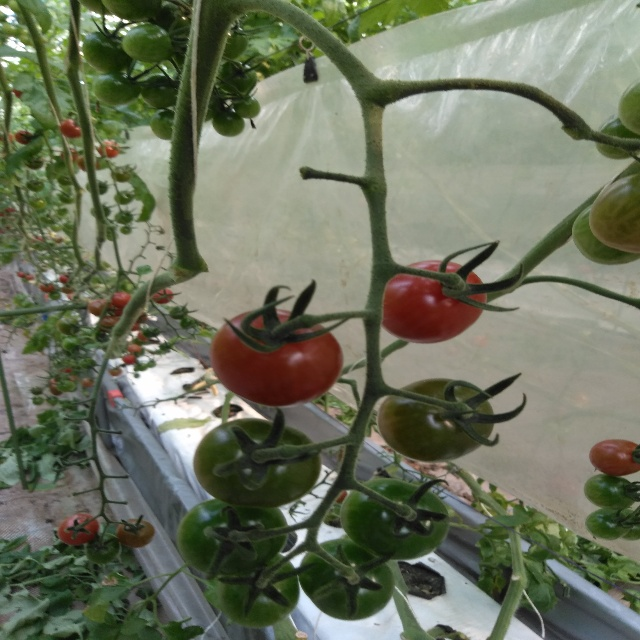l_fully_ripened: (210, 307, 344, 408), (381, 259, 486, 345), (589, 438, 639, 477), (58, 513, 99, 546)
l_green: (192, 417, 323, 508), (378, 376, 494, 464), (340, 478, 449, 560), (177, 498, 288, 578), (298, 539, 395, 621), (217, 553, 299, 629), (571, 203, 639, 264), (590, 172, 640, 254), (83, 31, 135, 73), (596, 113, 640, 160), (584, 473, 639, 510), (123, 24, 175, 63), (93, 71, 141, 106), (585, 508, 632, 541), (140, 73, 180, 109), (215, 61, 257, 94), (101, 0, 162, 22), (85, 532, 123, 565), (619, 75, 639, 136), (221, 24, 249, 62), (212, 110, 244, 137), (150, 109, 176, 140), (616, 508, 639, 541), (233, 93, 260, 119)
l_half_ripened: (116, 518, 155, 549)
